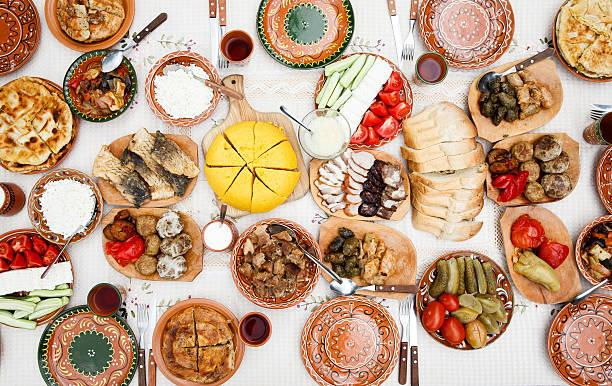Braised Crucian Carp: (201, 76, 308, 218), (414, 250, 513, 351), (313, 52, 404, 150), (465, 53, 571, 136), (498, 202, 582, 306), (151, 297, 245, 386), (93, 131, 201, 208), (230, 217, 319, 307), (481, 132, 586, 207), (1, 76, 79, 173), (309, 147, 406, 222), (107, 205, 206, 278), (1, 229, 75, 324), (62, 49, 136, 123), (44, 0, 134, 52), (553, 0, 611, 80)
